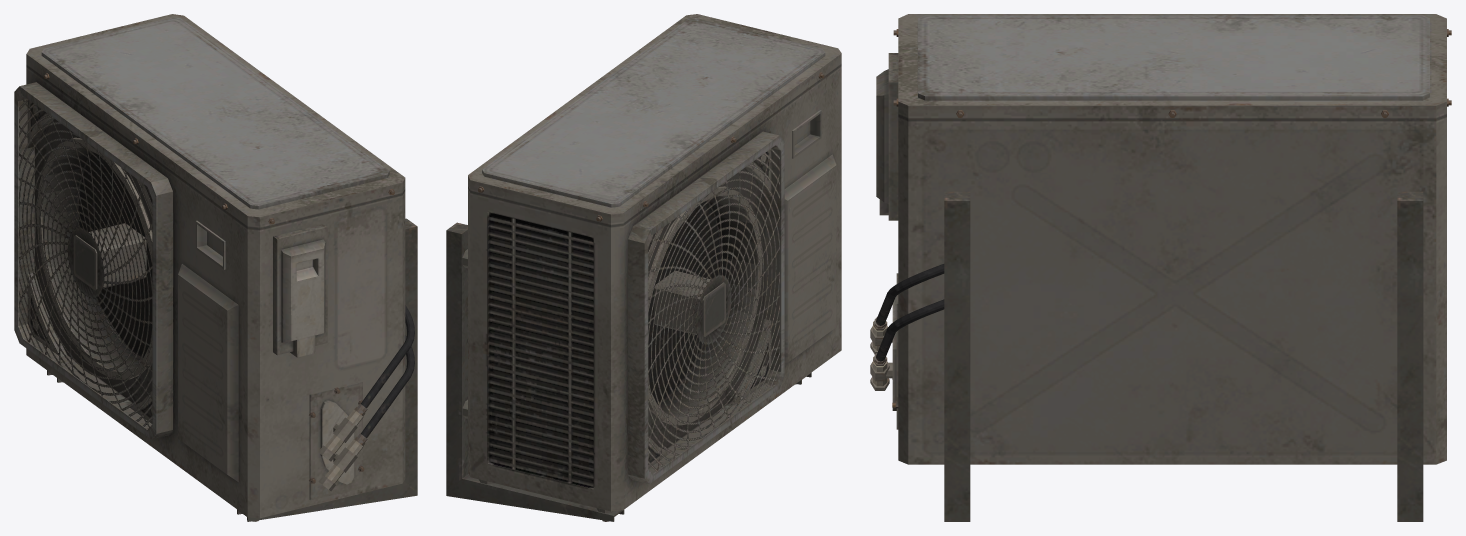
File: M_c3_bjq_kongtiao_02.fbx
3 views of the same model, side by side, from view 1: azimuth 30°, elevation 25°; view 2: azimuth 150°, elevation 25°; view 3: azimuth 270°, elevation 25° (orthographic). The views are drawn at different scales.
Parts seen in each view (by area): view 1: M_c3_bjq_kongtiao_02.mo; view 2: M_c3_bjq_kongtiao_02.mo; view 3: M_c3_bjq_kongtiao_02.mo.
Part boxes in pixels (x1,y1,x2,y2): M_c3_bjq_kongtiao_02.mo: (14,14,417,521); M_c3_bjq_kongtiao_02.mo: (446,14,841,521); M_c3_bjq_kongtiao_02.mo: (870,14,1451,521).
Size of the model in its own units: 47.79 by 76.74 by 99.86.
